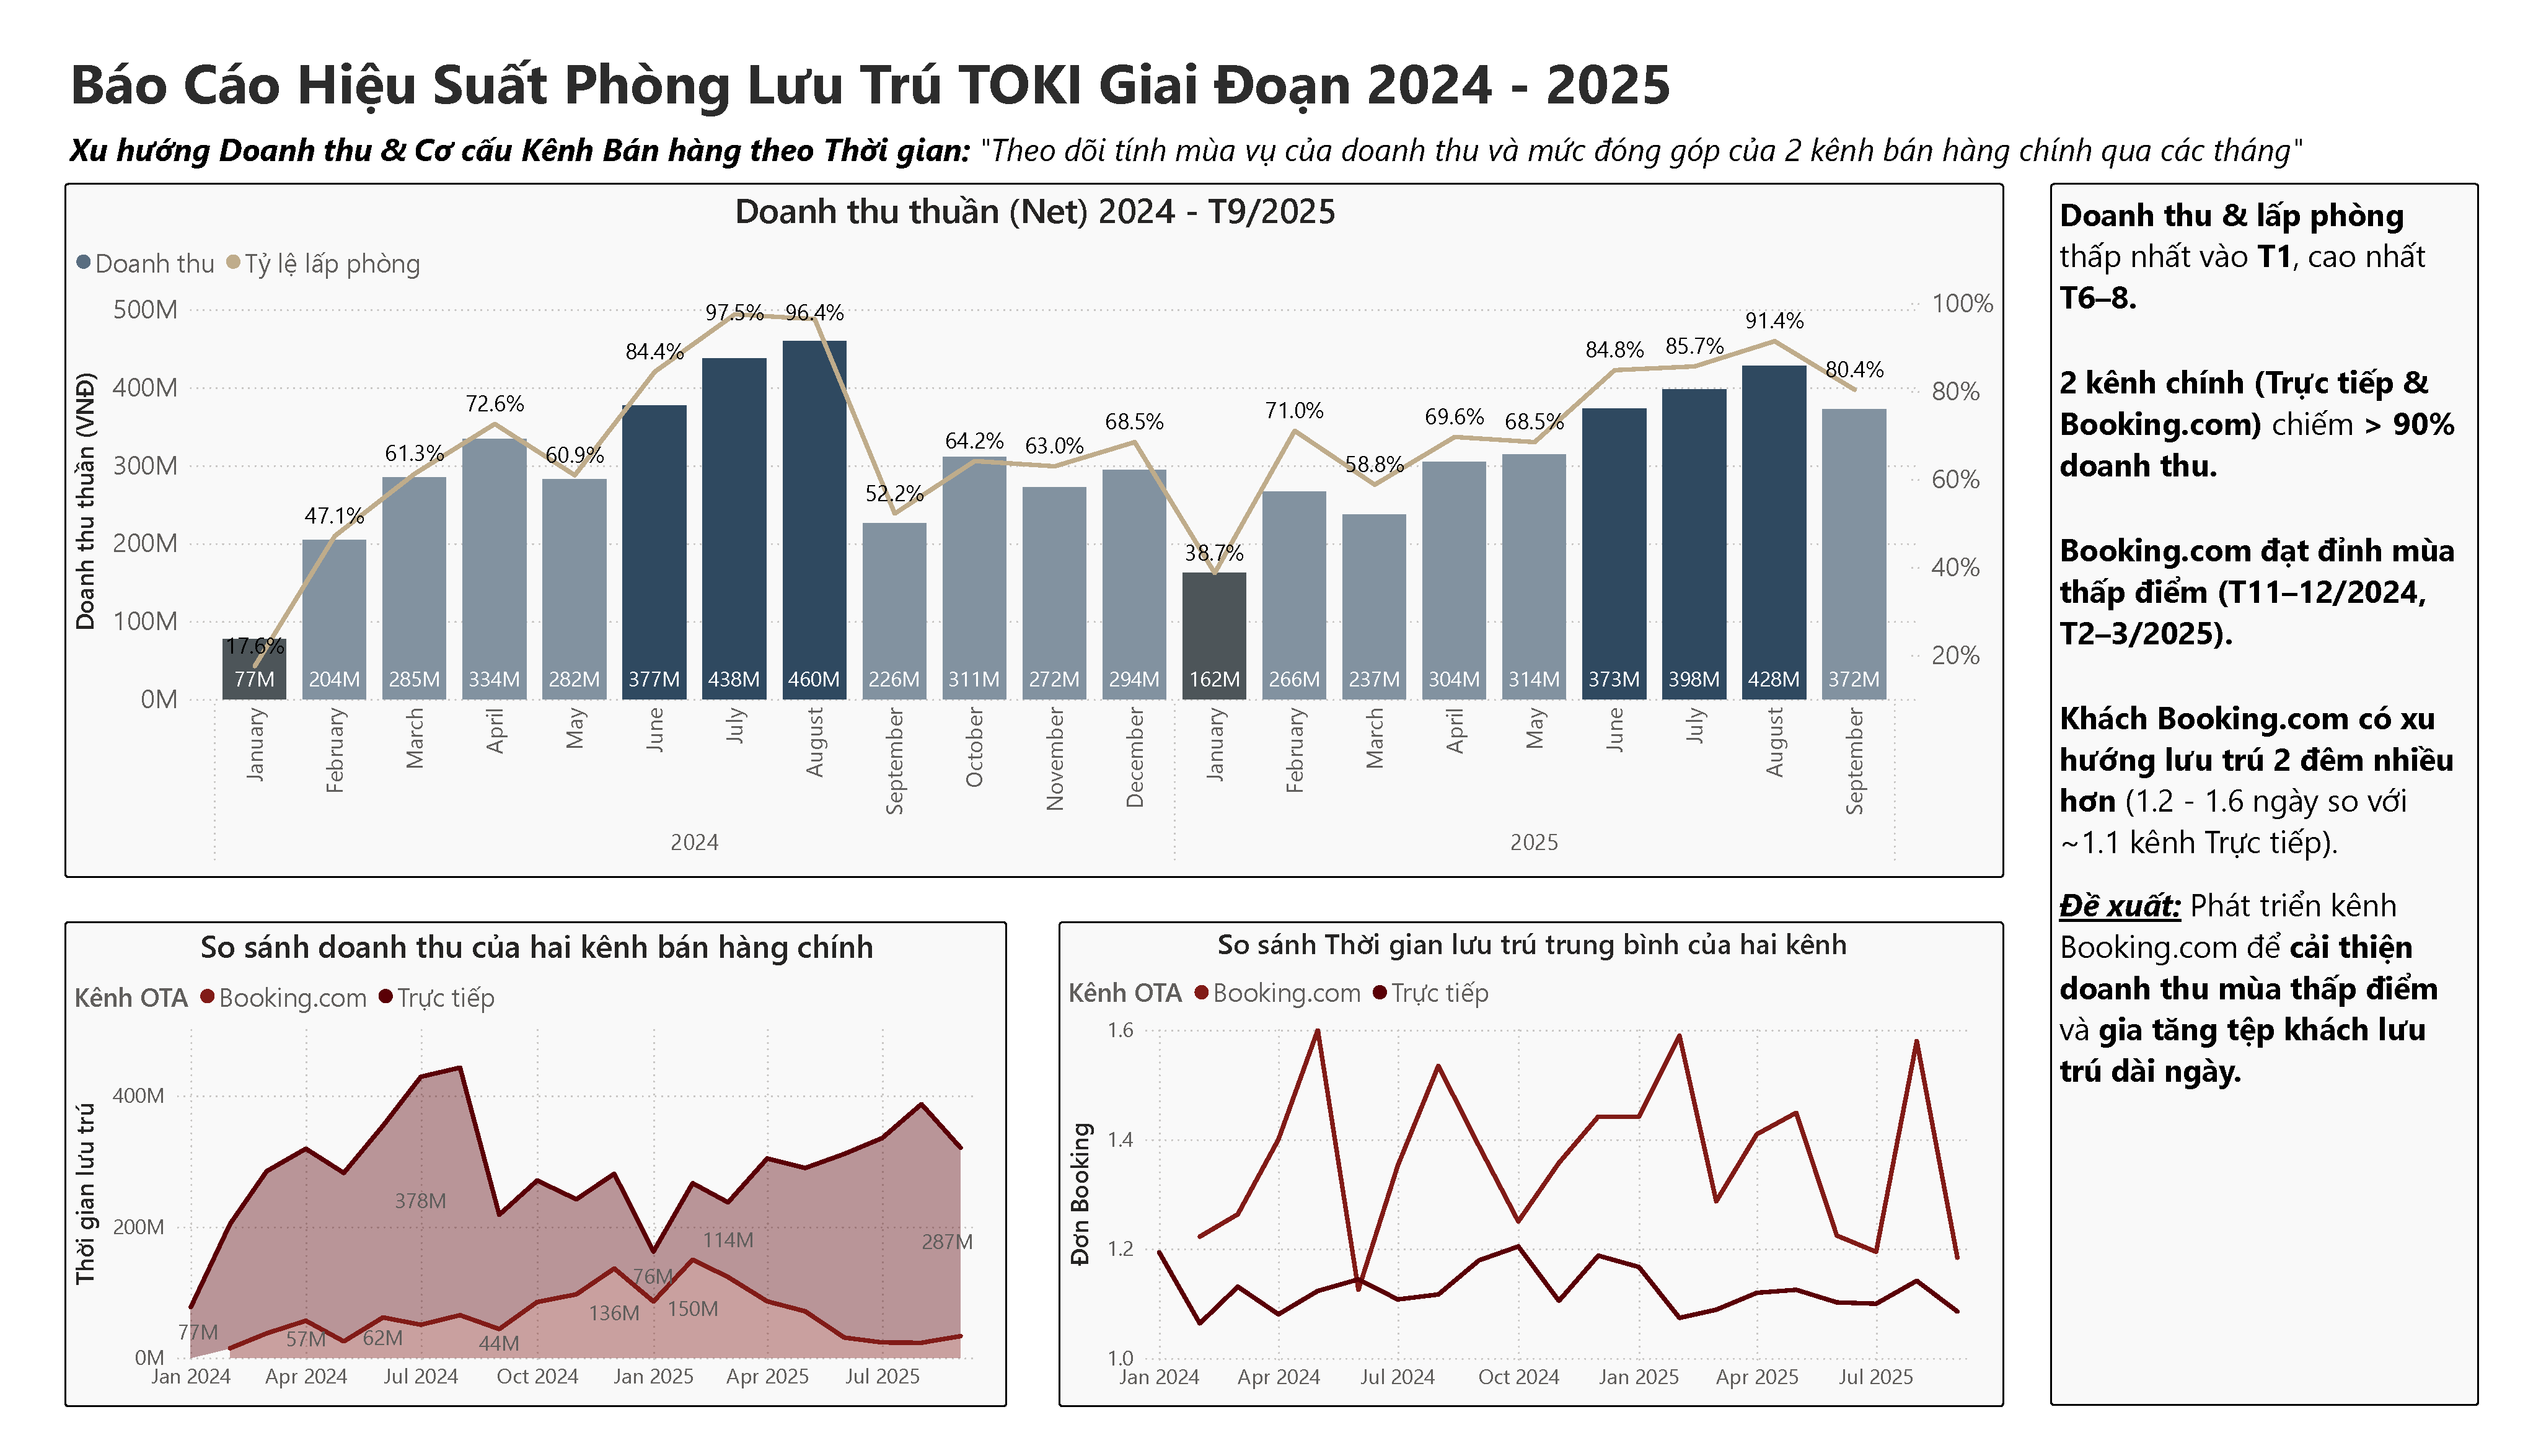

The page's visual inventory and layout, read from the dashboard file:
{"tool":"powerbi","page":{"name":"Sales Performance","canvas":[1920,1080],"ordinal":1},"visuals":[{"type":"textbox","box":[24.6,5,1390,85],"z":0},{"type":"textbox","box":[1563.8,117.5,332.5,947.5],"z":1000},{"type":"lineClusteredColumnComboChart","title":"Doanh thu thuần (Net) 2024 - T9/2025","fields":{"Y":["Sum(TOKI - Merged - Backup.Doanh thu thuần)"],"Y2":["_Measures.Occupancy Rate"],"Category":["Date.Date.Variation.Date Hierarchy.Year","Date.Date.Variation.Date Hierarchy.Month"]},"box":[26,118,1502,538],"z":2000},{"type":"textbox","box":[25,70,1872.5,47.5],"z":3000},{"type":"stackedAreaChart","title":"So sánh doanh thu của hai kênh bán hàng chính","fields":{"Category":["TOKI - Merged - Backup.Ngày đến.Variation.Date Hierarchy.Year","TOKI - Merged - Backup.Ngày đến.Variation.Date Hierarchy.Month"],"Series":["TOKI - Merged - Backup.Kênh OTA"],"Y":["Sum(TOKI - Merged - Backup.Doanh thu thuần)"]},"box":[26,690,730,376],"z":4000},{"type":"lineChart","title":"So sánh Thời gian lưu trú trung bình của hai kênh","fields":{"Category":["Date.Date.Variation.Date Hierarchy.Year","Date.Date.Variation.Date Hierarchy.Month"],"Series":["TOKI - Merged - Backup.Kênh OTA"],"Y":["Avg(TOKI - Merged - Backup.Số đêm)"]},"box":[796,690,732,376],"z":5000}]}

Visuals, with their boxes on the page's 1920x1080 design canvas (x1, y1, x2, y2). These are canvas units, not pixel positions in the 2541x1456 screenshot, which may show the page scaled, cropped or inside an application window:
textbox: box(25, 5, 1415, 90)
textbox: box(1564, 118, 1896, 1065)
"Doanh thu thuần (Net) 2024 - T9/2025" lineClusteredColumnComboChart: box(26, 118, 1528, 656)
textbox: box(25, 70, 1898, 118)
"So sánh doanh thu của hai kênh bán hàng chính" stackedAreaChart: box(26, 690, 756, 1066)
"So sánh Thời gian lưu trú trung bình của hai kênh" lineChart: box(796, 690, 1528, 1066)
